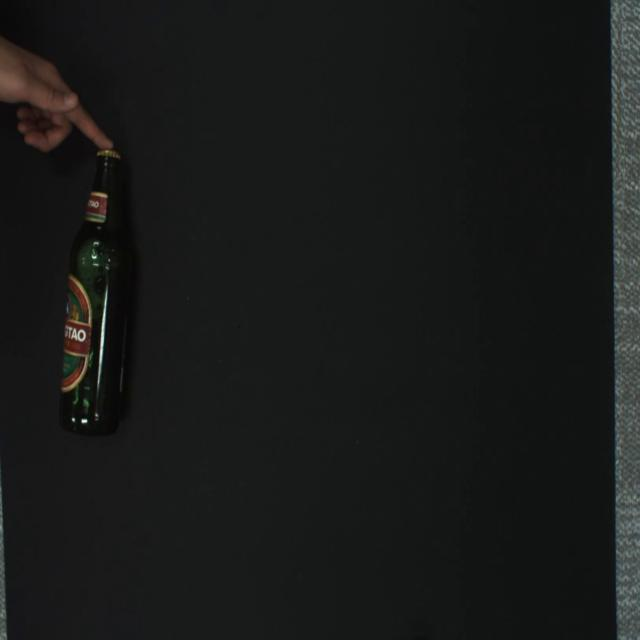beer-bottle: (57, 149, 134, 436)
